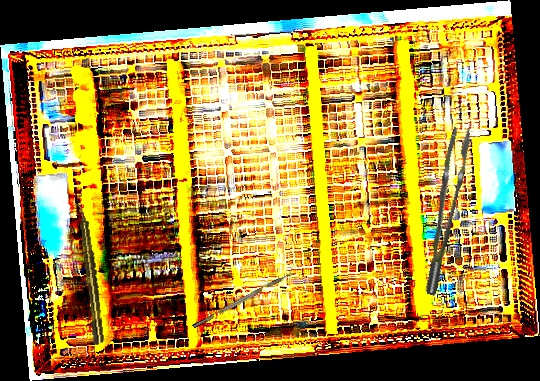Chopper: (189, 265, 297, 329)
Handpiece: (75, 201, 106, 347)
Tissue Forceps: (402, 123, 488, 297)
